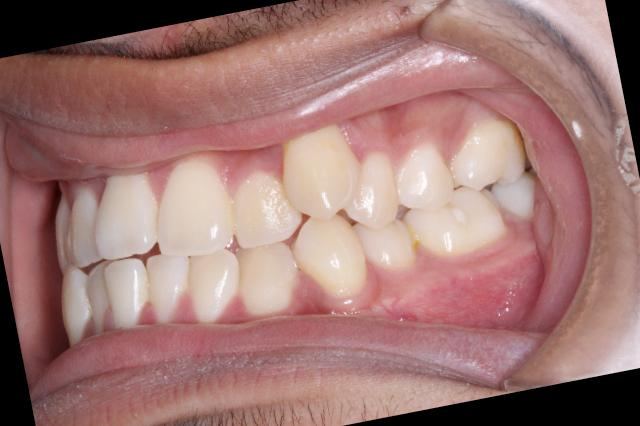canine class III 1/2: (214, 120, 388, 326)
molar class III 3/4: (386, 108, 554, 276)
